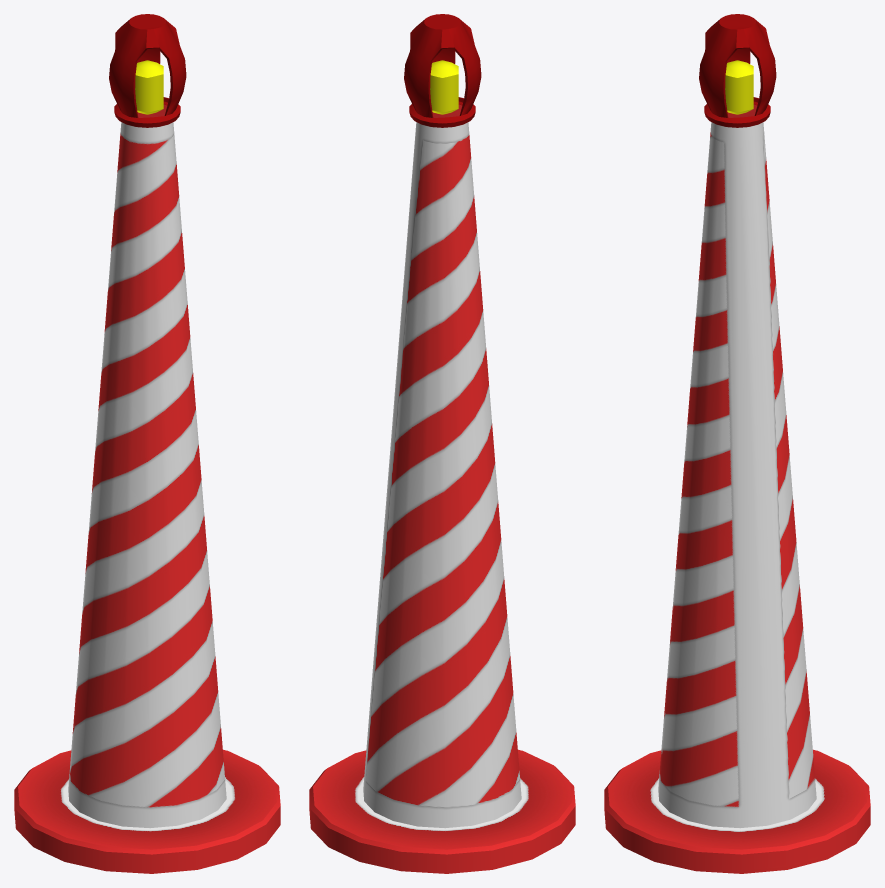
Rendered from Chip_With_Lamp.FBX.
The picture shows the model from 3 angles, left to right: view 1: azimuth 30°, elevation 25°; view 2: azimuth 150°, elevation 25°; view 3: azimuth 270°, elevation 25°; orthographic projection.
Parts seen in each view (by area): view 1: Cylinder003, Chip_with_yellowLamp, OilTank001; view 2: Cylinder003, Chip_with_yellowLamp, OilTank001; view 3: Cylinder003, Chip_with_yellowLamp, OilTank001.
Boxes of the visible parts, left/top/right/bottom form: Cylinder003: left=14, top=104, right=280, bottom=873; Chip_with_yellowLamp: left=109, top=14, right=186, bottom=127; OilTank001: left=135, top=60, right=163, bottom=114; Cylinder003: left=309, top=104, right=575, bottom=873; Chip_with_yellowLamp: left=404, top=14, right=481, bottom=127; OilTank001: left=430, top=60, right=458, bottom=114; Cylinder003: left=604, top=104, right=870, bottom=873; Chip_with_yellowLamp: left=699, top=14, right=776, bottom=127; OilTank001: left=725, top=60, right=753, bottom=114.
Size of the model in its own units: 290 by 946 by 287.
3 materials, 1 textured.
